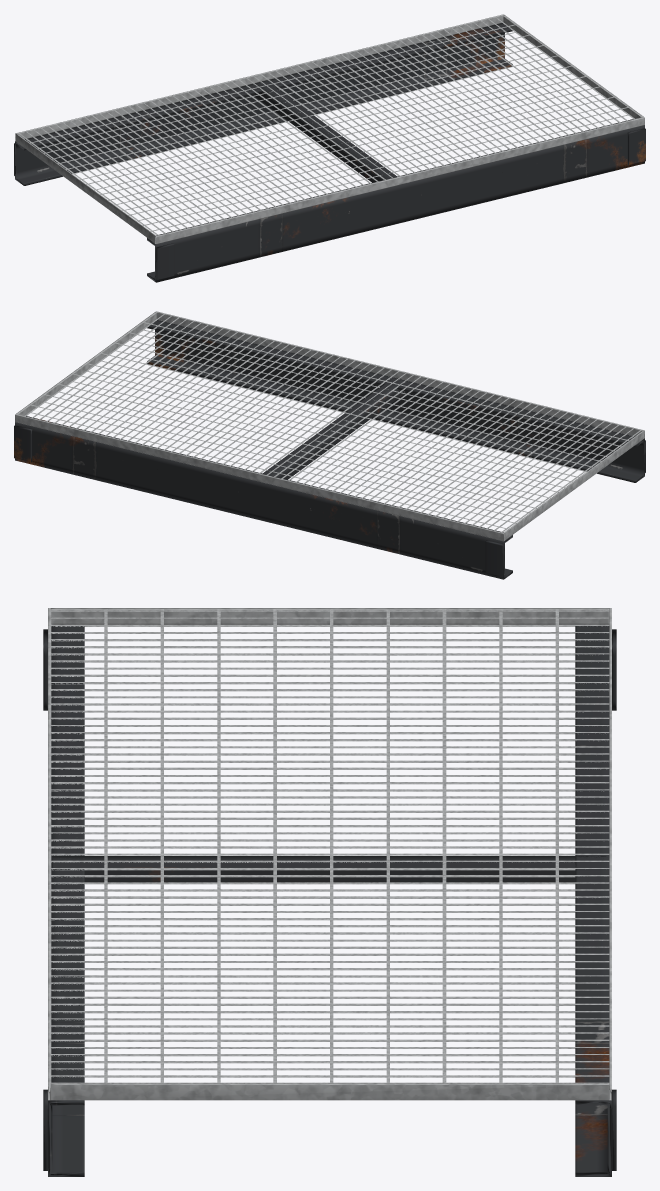
Rendered from SM_IK_Catwalk_200_Rusty_LOD1.fbx.
3 views of the same model, one above another, from view 1: azimuth 30°, elevation 25°; view 2: azimuth 150°, elevation 25°; view 3: azimuth 270°, elevation 25° (orthographic). The views are drawn at different scales.
Visible parts, largest first — view 1: SM_IK_Catwalk_200_Rusty_LOD1; view 2: SM_IK_Catwalk_200_Rusty_LOD1; view 3: SM_IK_Catwalk_200_Rusty_LOD1.
Part boxes in pixels (x1,y1,x2,y2): SM_IK_Catwalk_200_Rusty_LOD1: (14,14,645,282); SM_IK_Catwalk_200_Rusty_LOD1: (14,311,645,579); SM_IK_Catwalk_200_Rusty_LOD1: (43,608,616,1176).
Bounding box in the file's own units: 200 × 102 × 18.
